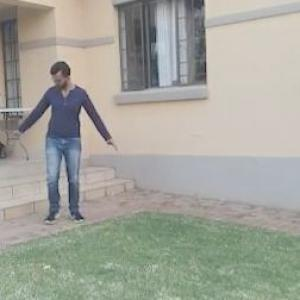land: (14, 59, 118, 224)
